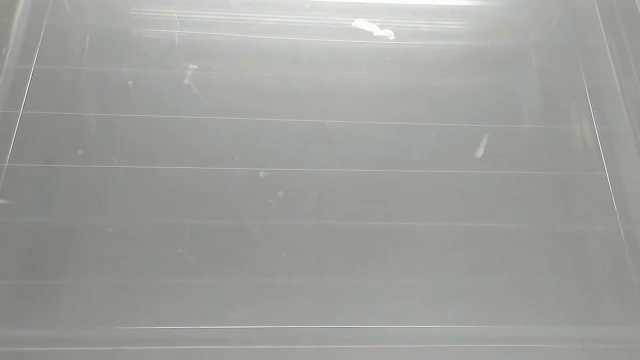alpha: (348, 15, 398, 44), (472, 130, 491, 160), (1, 193, 16, 209)
